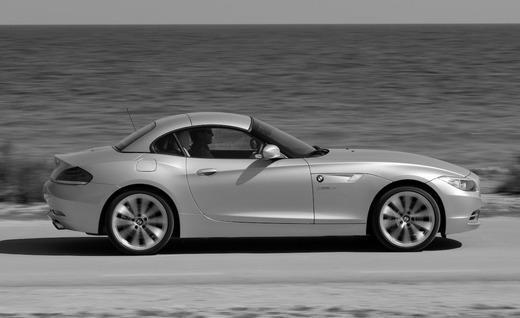car: (43, 114, 486, 253)
